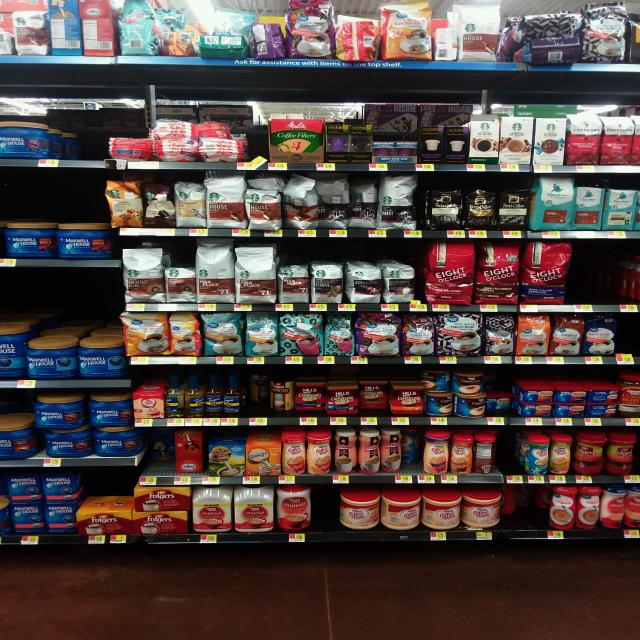empty_space: (582, 250, 609, 303), (315, 489, 336, 528), (622, 321, 640, 353)
